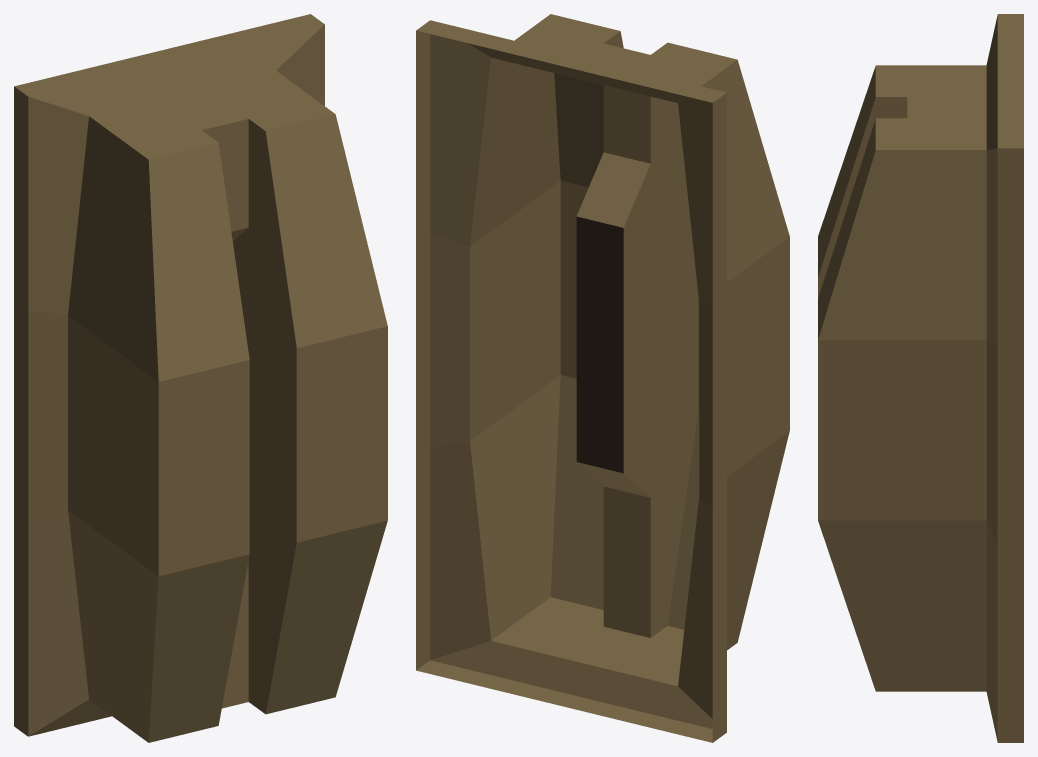
Rendered from Switch_Base.glb.
The picture shows the model from 3 angles, left to right: view 1: azimuth 30°, elevation 25°; view 2: azimuth 150°, elevation 25°; view 3: azimuth 270°, elevation 25°; orthographic projection. The views are drawn at different scales.
Parts seen in each view (by area): view 1: Switch_Base.001; view 2: Switch_Base.001; view 3: Switch_Base.001.
Part boxes in pixels (bbox=[...]): Switch_Base.001: bbox=[14, 14, 387, 742]; Switch_Base.001: bbox=[416, 14, 789, 742]; Switch_Base.001: bbox=[818, 14, 1023, 742].
Size of the model in its own units: 0.2709 by 0.5587 by 0.1753.
1 material, 1 textured.
